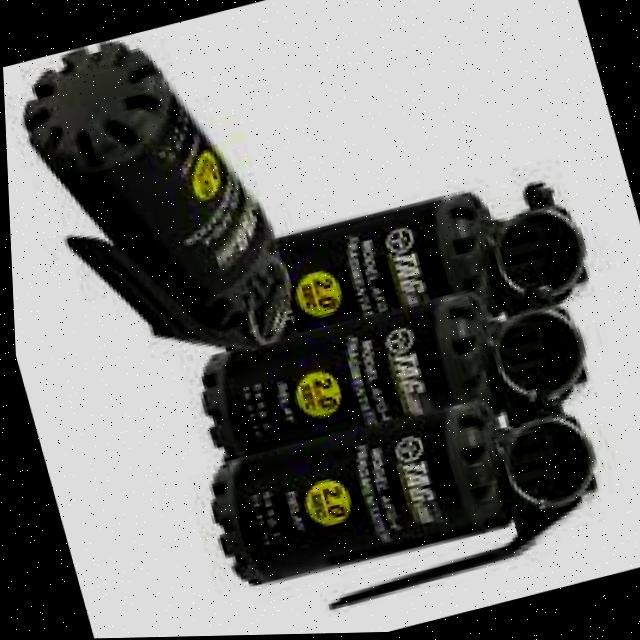grenade: (6, 8, 314, 393), (188, 365, 621, 636), (182, 261, 614, 500), (268, 161, 614, 368)
